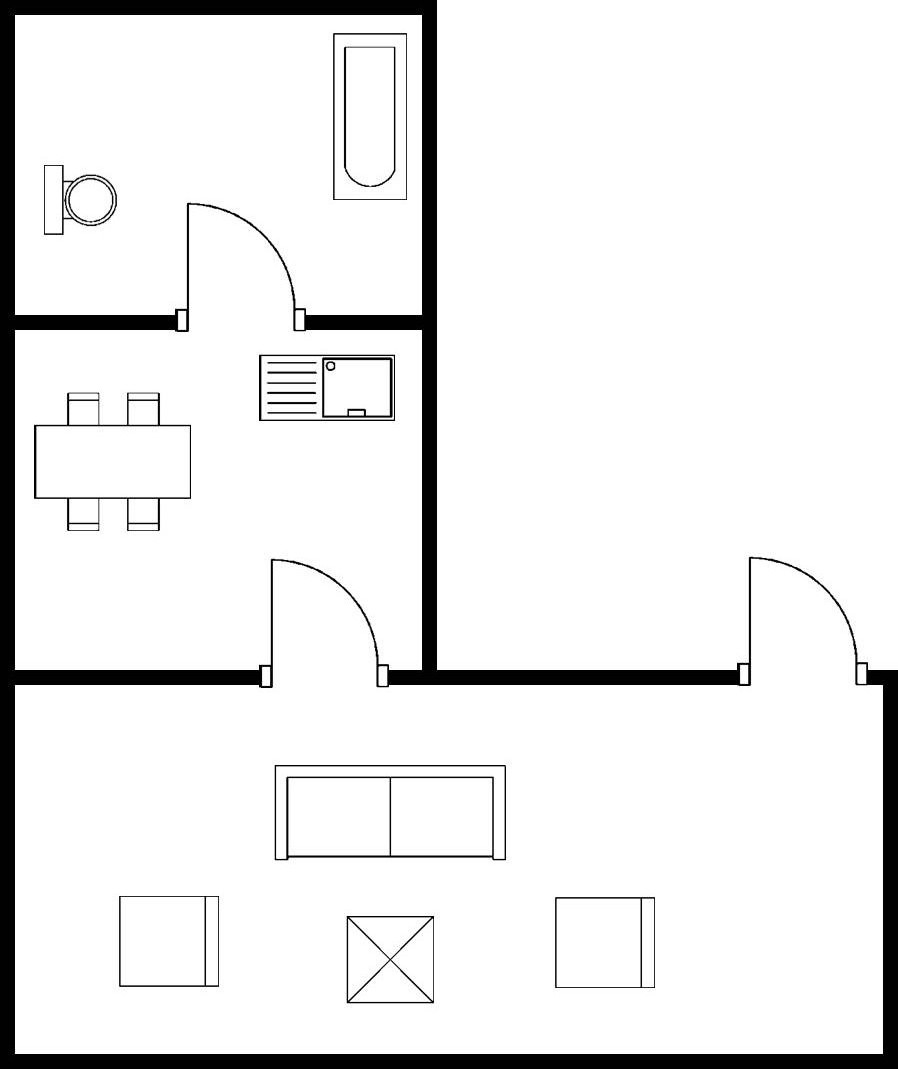coffee_table: (341, 910, 443, 1013)
dining_table: (28, 387, 202, 538)
large_sink: (40, 164, 121, 244)
large_sofa: (267, 757, 513, 868)
sink: (254, 350, 404, 427)
small_sofa: (114, 890, 227, 997), (549, 892, 663, 998)
tub: (329, 29, 411, 207)
